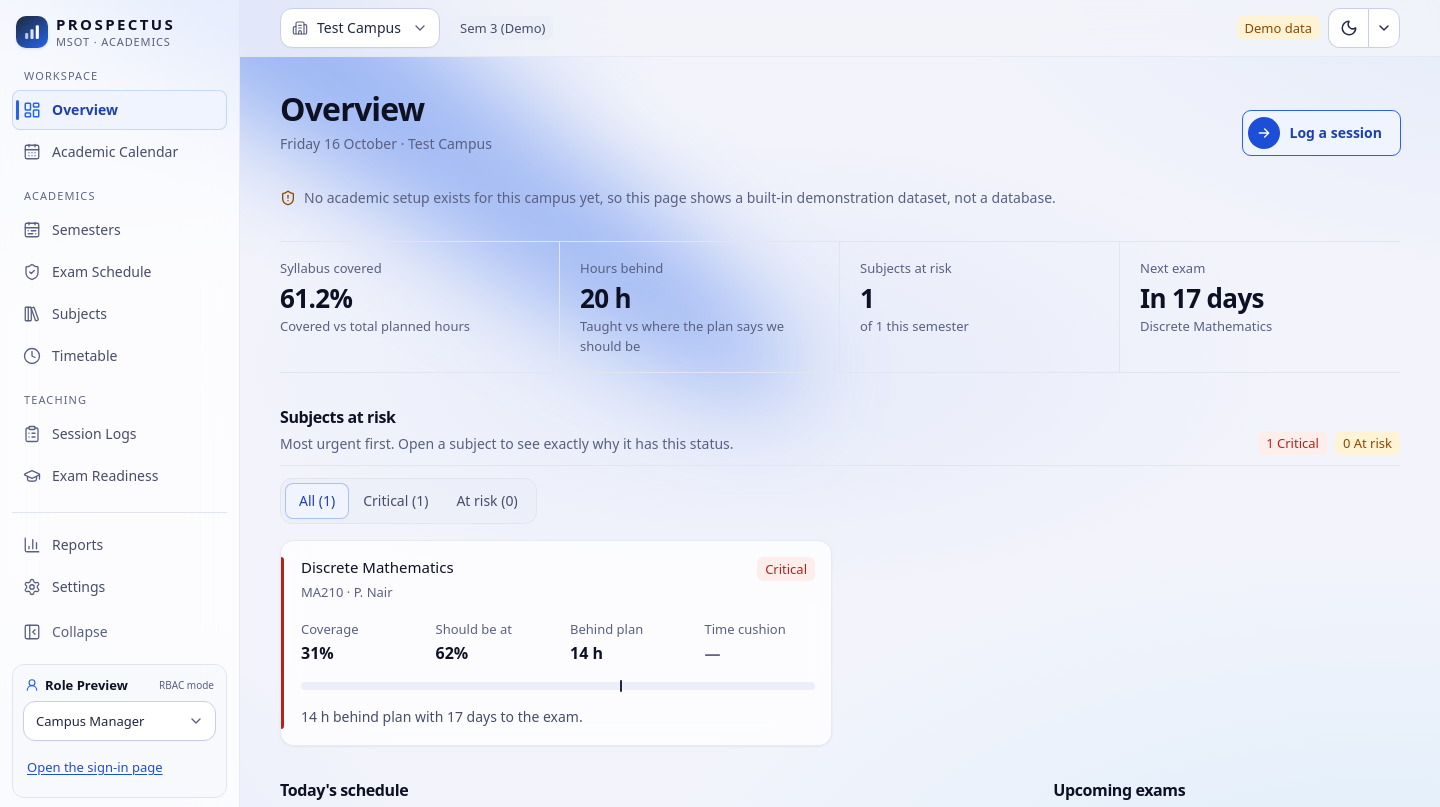
Scenario: role-aware navigation › changes visible links and hides Log a session for students
Expected: the text "Syllabus covered" is shown, [280, 259, 382, 277]
Select "Student" in the dropdown named "Preview as role": x=120, y=721 [23, 701, 216, 741]
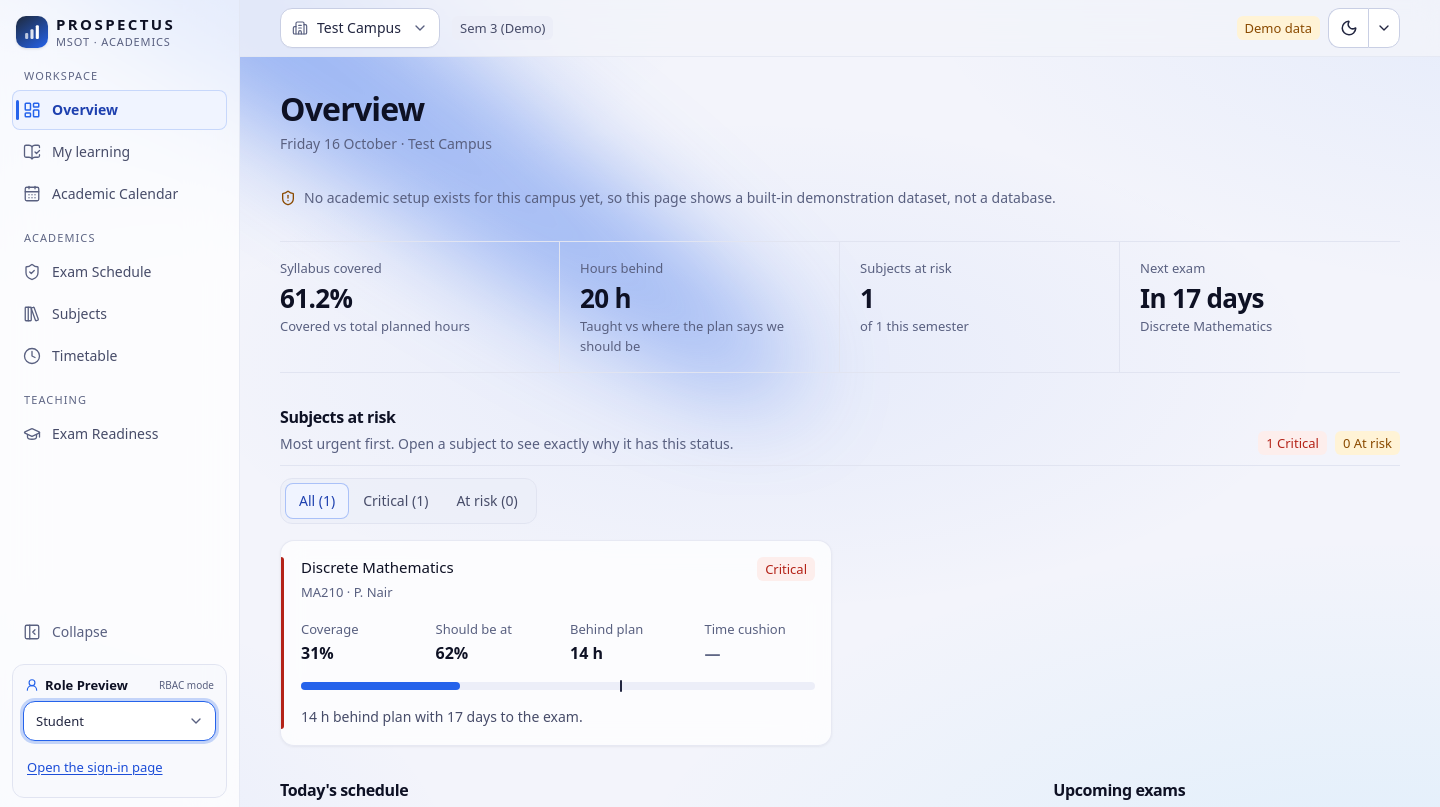
Now the button "Log a session" is gone
Now the link "Reports" is gone
